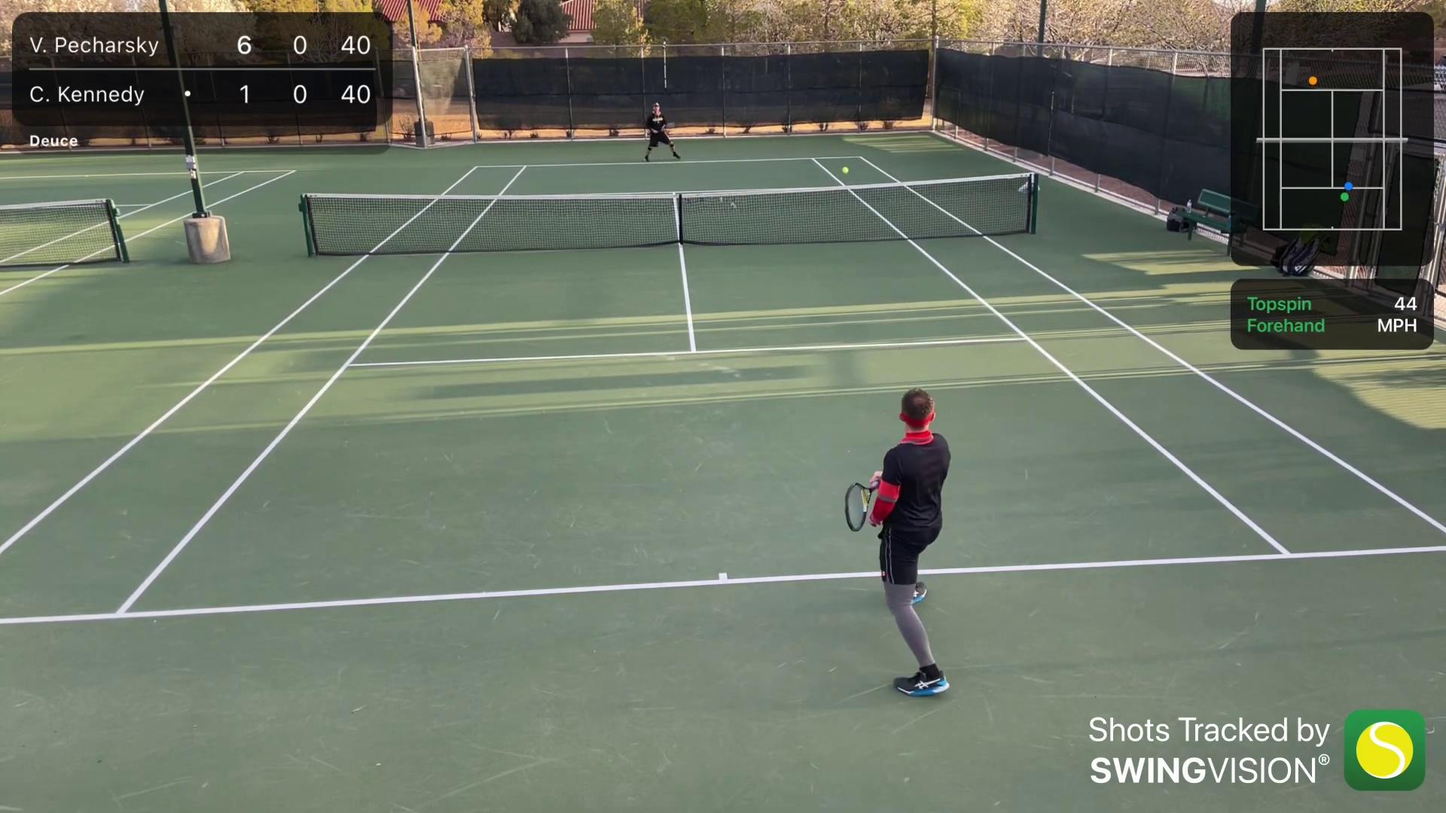ball: (841, 166, 850, 174)
